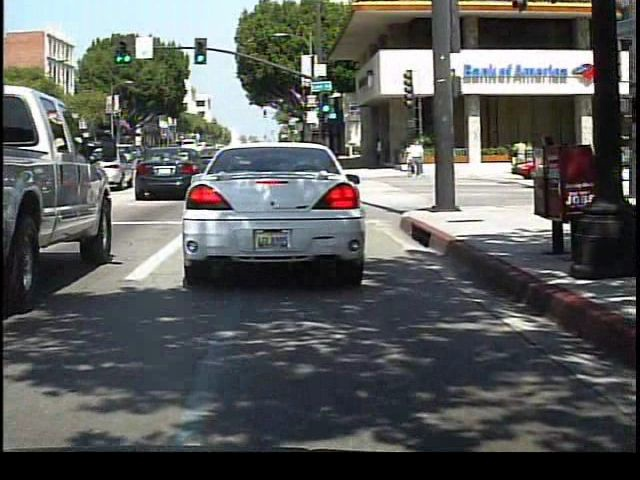person: (509, 136, 530, 177), (406, 136, 426, 179), (439, 136, 457, 174)
